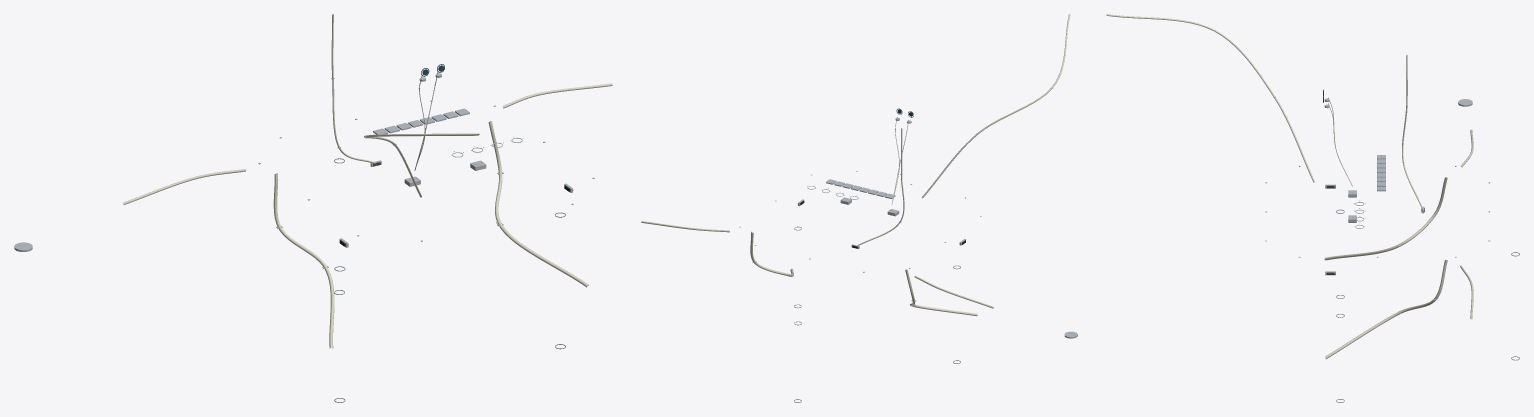
The model's file is phoenix-detail.glb.
The picture shows the model from 3 angles, left to right: view 1: azimuth 30°, elevation 25°; view 2: azimuth 150°, elevation 25°; view 3: azimuth 270°, elevation 25°; orthographic projection. The views are drawn at different scales.
Visible parts, largest first — view 1: DETAIL_AVIONICS_White_cable_sleeve, DETAIL_SOLAR_White_cable_sleeve, DETAIL_TEGA_Machined_aluminium, DETAIL_ARM_White_cable_sleeve; view 2: DETAIL_AVIONICS_White_cable_sleeve, DETAIL_ARM_White_cable_sleeve, DETAIL_SOLAR_White_cable_sleeve; view 3: DETAIL_AVIONICS_White_cable_sleeve, DETAIL_ARM_White_cable_sleeve.
Part boxes in pixels (x1,y1,x2,y2): DETAIL_AVIONICS_White_cable_sleeve: (273, 121, 588, 348); DETAIL_SOLAR_White_cable_sleeve: (122, 83, 612, 204); DETAIL_TEGA_Machined_aluminium: (373, 108, 469, 134); DETAIL_ARM_White_cable_sleeve: (364, 133, 478, 197); DETAIL_AVIONICS_White_cable_sleeve: (750, 232, 977, 316); DETAIL_ARM_White_cable_sleeve: (922, 14, 1070, 198); DETAIL_SOLAR_White_cable_sleeve: (641, 221, 993, 308); DETAIL_AVIONICS_White_cable_sleeve: (1324, 177, 1447, 359); DETAIL_ARM_White_cable_sleeve: (1106, 14, 1314, 182).
Size of the model in its own units: 3.03 by 1.82 by 2.29.
